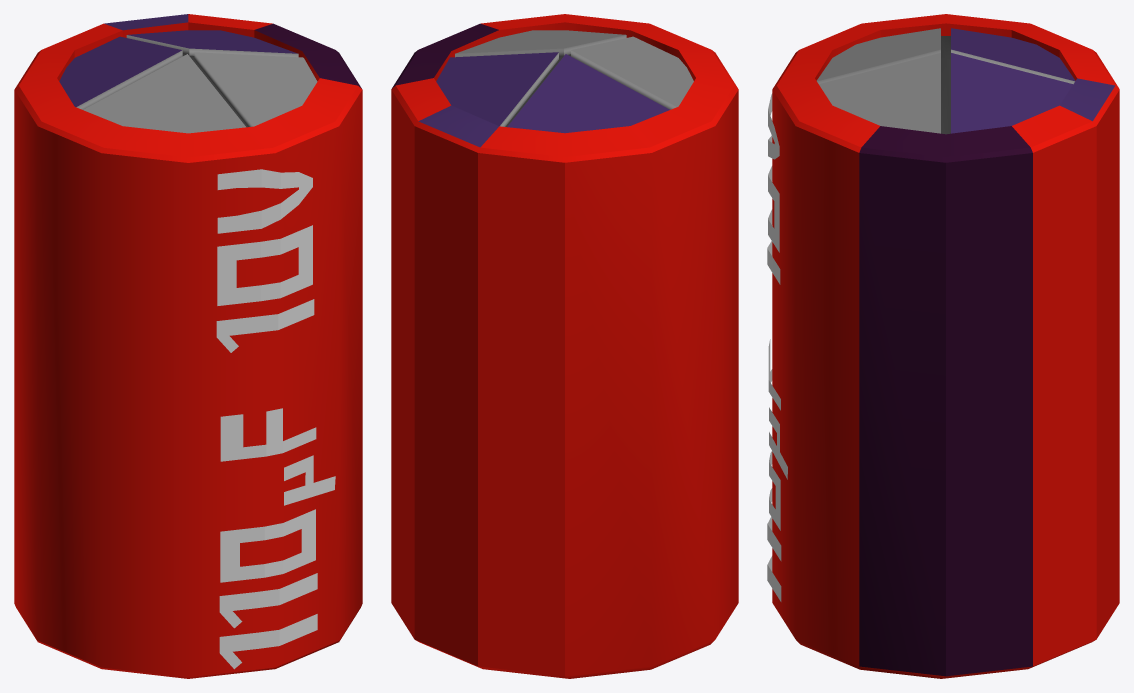
The model's file is zepsuty_kondensator_czerwony.fbx.
The picture shows the model from 3 angles, left to right: view 1: azimuth 30°, elevation 25°; view 2: azimuth 150°, elevation 25°; view 3: azimuth 270°, elevation 25°; orthographic projection.
Visible parts, largest first — view 1: zepsuty_kondensator_czerwony; view 2: zepsuty_kondensator_czerwony; view 3: zepsuty_kondensator_czerwony.
Boxes of the visible parts, x1,y1,x2,y2 form: zepsuty_kondensator_czerwony: (14, 14, 362, 678); zepsuty_kondensator_czerwony: (391, 14, 738, 678); zepsuty_kondensator_czerwony: (767, 14, 1119, 678).
Bounding box in the file's own units: 200 × 353 × 203.
